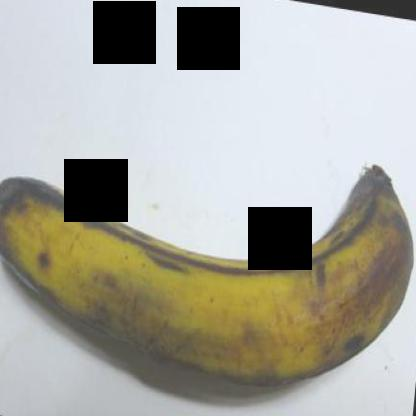rotten: (1, 150, 412, 408)
